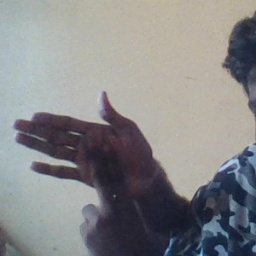N: (11, 85, 156, 245)
